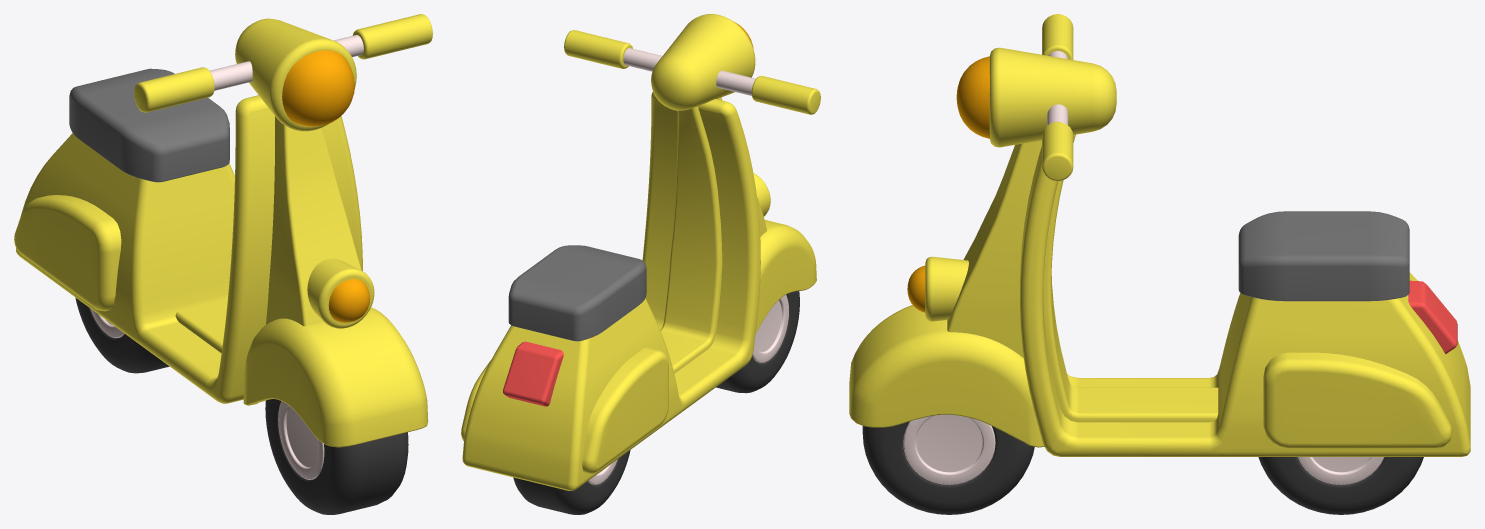
File: City_14_Scooter_2.glb
The picture shows the model from 3 angles, left to right: view 1: azimuth 30°, elevation 25°; view 2: azimuth 150°, elevation 25°; view 3: azimuth 270°, elevation 25°; orthographic projection. The views are drawn at different scales.
Parts seen in each view (by area): view 1: City_14_Scooter_2; view 2: City_14_Scooter_2; view 3: City_14_Scooter_2.
Boxes of the visible parts, x1,y1,x2,y2 form: City_14_Scooter_2: (14,14,432,514); City_14_Scooter_2: (461,14,820,514); City_14_Scooter_2: (849,14,1470,514).
Size of the model in its own units: 0.7828 by 1.17 by 1.46.
1 material, 1 textured.
